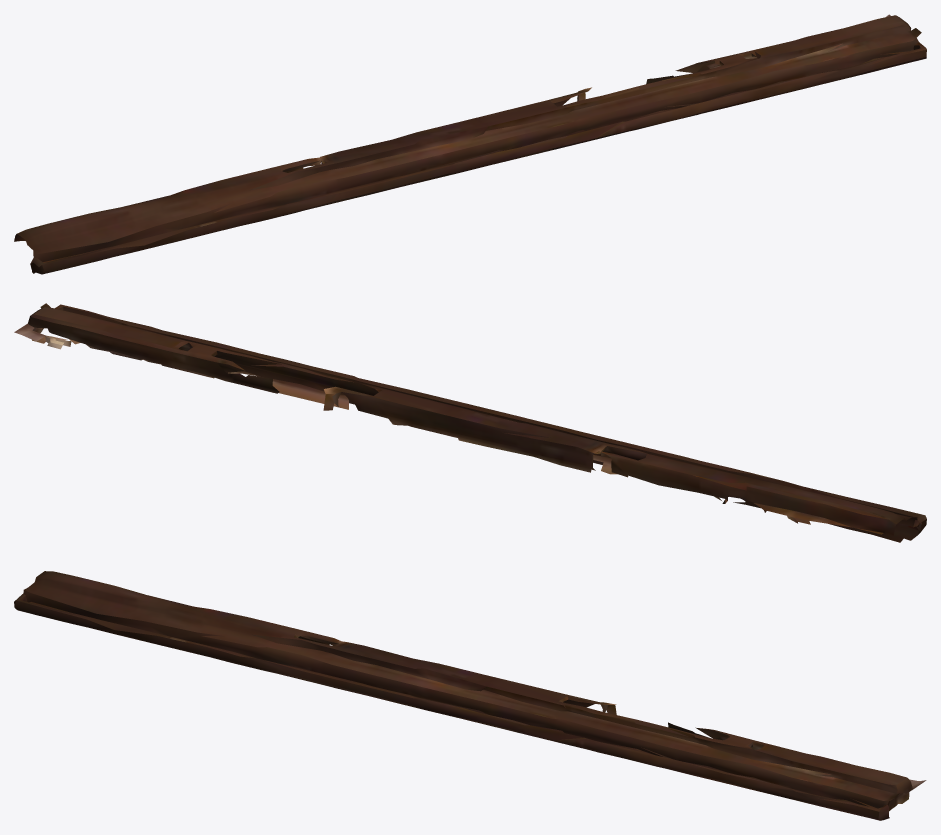
The model's file is keyboard_lid.glb.
3 views of the same model, one above another, from view 1: azimuth 30°, elevation 25°; view 2: azimuth 150°, elevation 25°; view 3: azimuth 330°, elevation 25° (orthographic). The views are drawn at different scales.
Visible parts, largest first — view 1: world; view 2: world; view 3: world.
Boxes of the visible parts, box(x1,y1,x2,y2) form: world: box(14, 14, 926, 274); world: box(14, 303, 926, 542); world: box(14, 571, 926, 820).
Bounding box in the file's own units: 1.63 × 0.0607 × 0.1389.
Materials: 1 (1 with a texture image).
